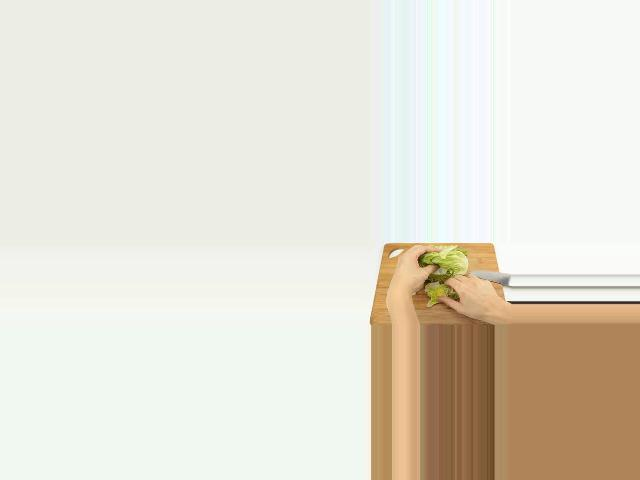lettuce: (421, 246, 469, 279)
